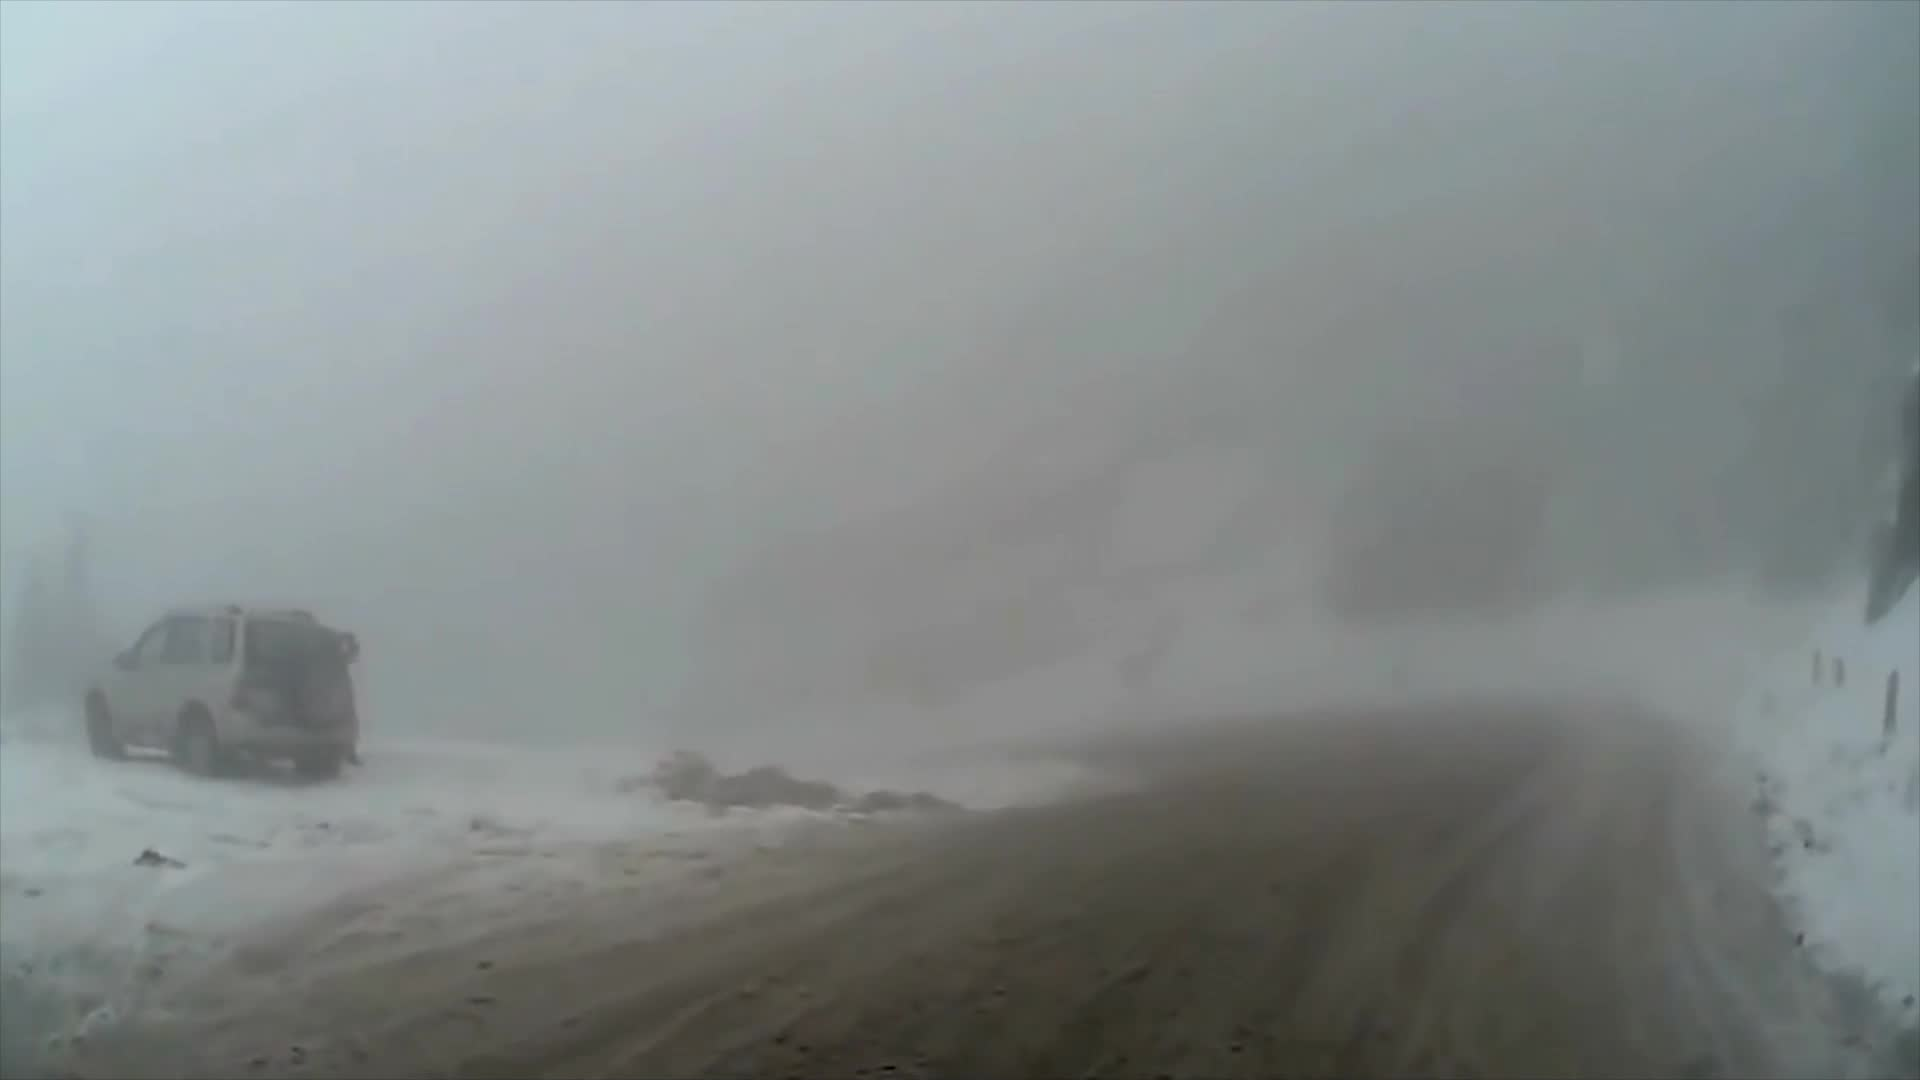vehicle: (80, 601, 355, 781)
